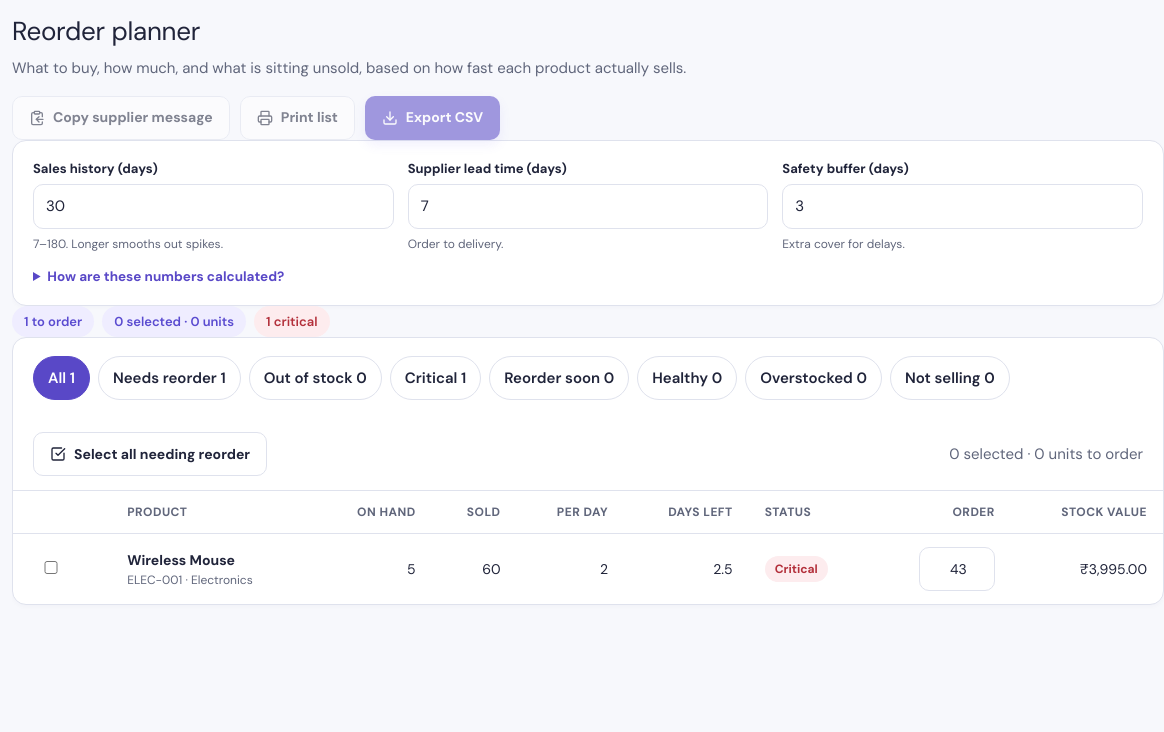
Scenario: ReorderPlannerPage › lists suggestions with the quantity to order and enables the exports
The width and height of the screenshot is (1164, 732).
Expected: the text "Wireless Mouse" is shown, [127,551,235,569]
Expected: the text "Critical" is shown, [765,556,828,582]
Replace the text in the number field named "Order quantity for Wireless Mouse" with "12" at (957, 569), box [919,547,995,591]
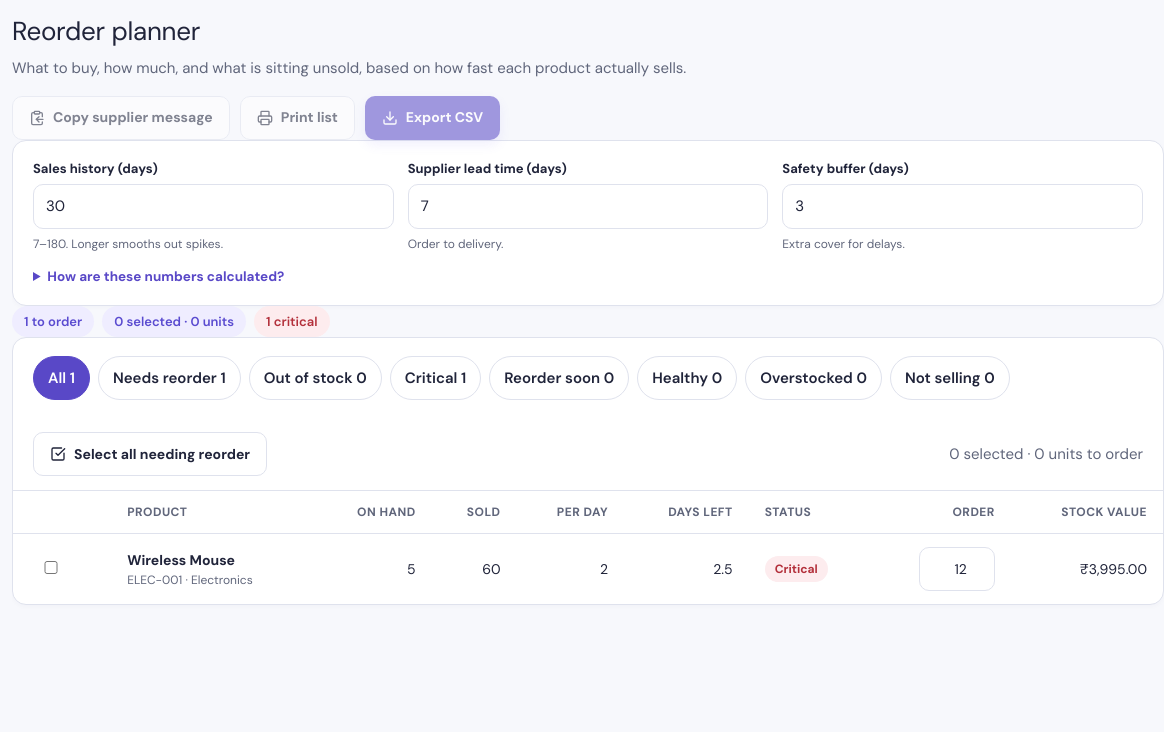
Click the button "Select all needing reorder" at (150, 454), box [33,432,267,476]
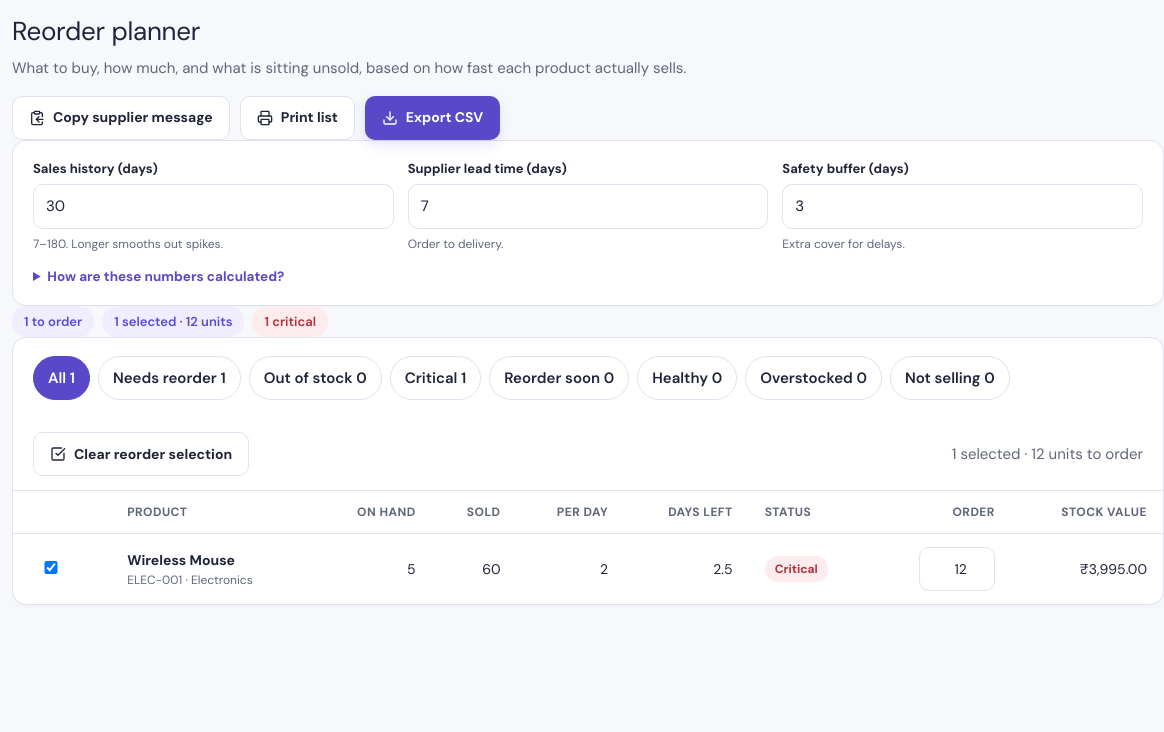
Expected: the button "Export CSV" is enabled, [365,96,500,140]
Expected: the text "1 selected · 12 units to order" is shown, [952,443,1143,466]
